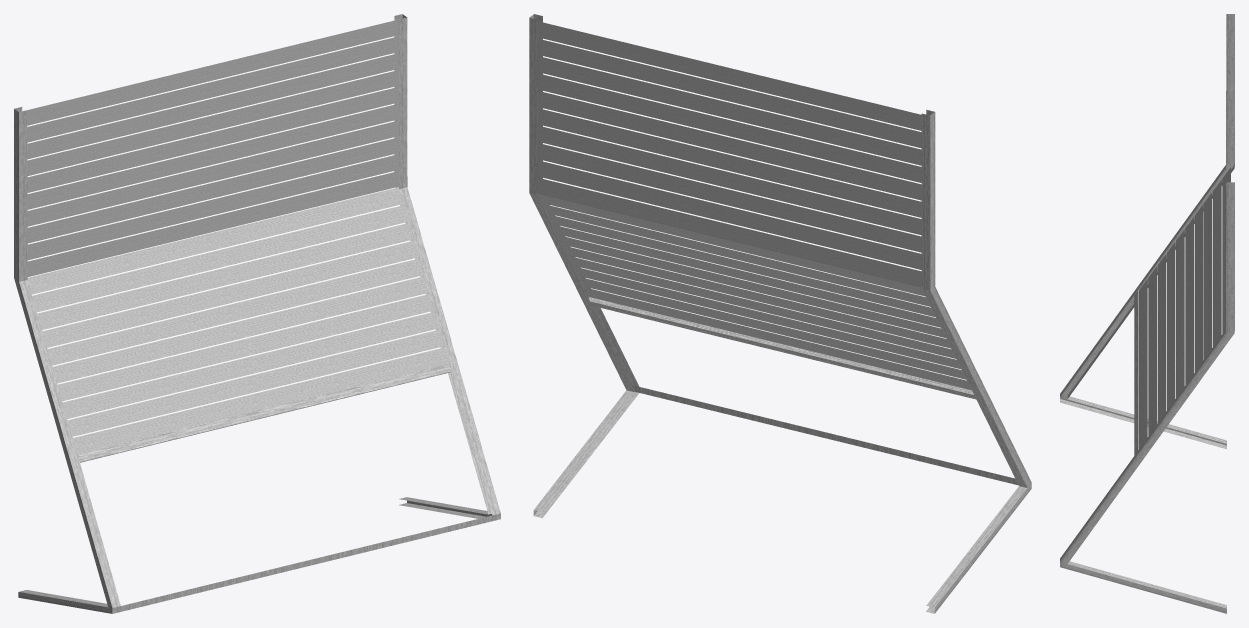
File: StorenAngle.glb
3 renders of one model, left to right at view 1: azimuth 30°, elevation 25°; view 2: azimuth 150°, elevation 25°; view 3: azimuth 270°, elevation 25°, orthographic. The views are drawn at different scales.
Visible parts, largest first — view 1: Plane.003, Plane.002, Plane, Plane.004; view 2: Plane.002, Plane.003, Plane, Plane.004; view 3: Plane.003, Plane, Plane.004.
Part boxes in pixels (<box>): Plane.003: <box>27,187,448,454</box>; Plane.002: <box>27,19,398,276</box>; Plane: <box>14,14,500,613</box>; Plane.004: <box>78,364,450,462</box>; Plane.002: <box>537,21,921,287</box>; Plane.003: <box>537,194,971,389</box>; Plane: <box>529,14,1031,613</box>; Plane.004: <box>588,297,976,399</box>; Plane.003: <box>1139,167,1230,448</box>; Plane: <box>1060,14,1234,613</box>; Plane.004: <box>1134,290,1138,455</box>.
Bounding box in the file's own units: 3.37 × 4.03 × 1.48.
1 material, 1 textured.
